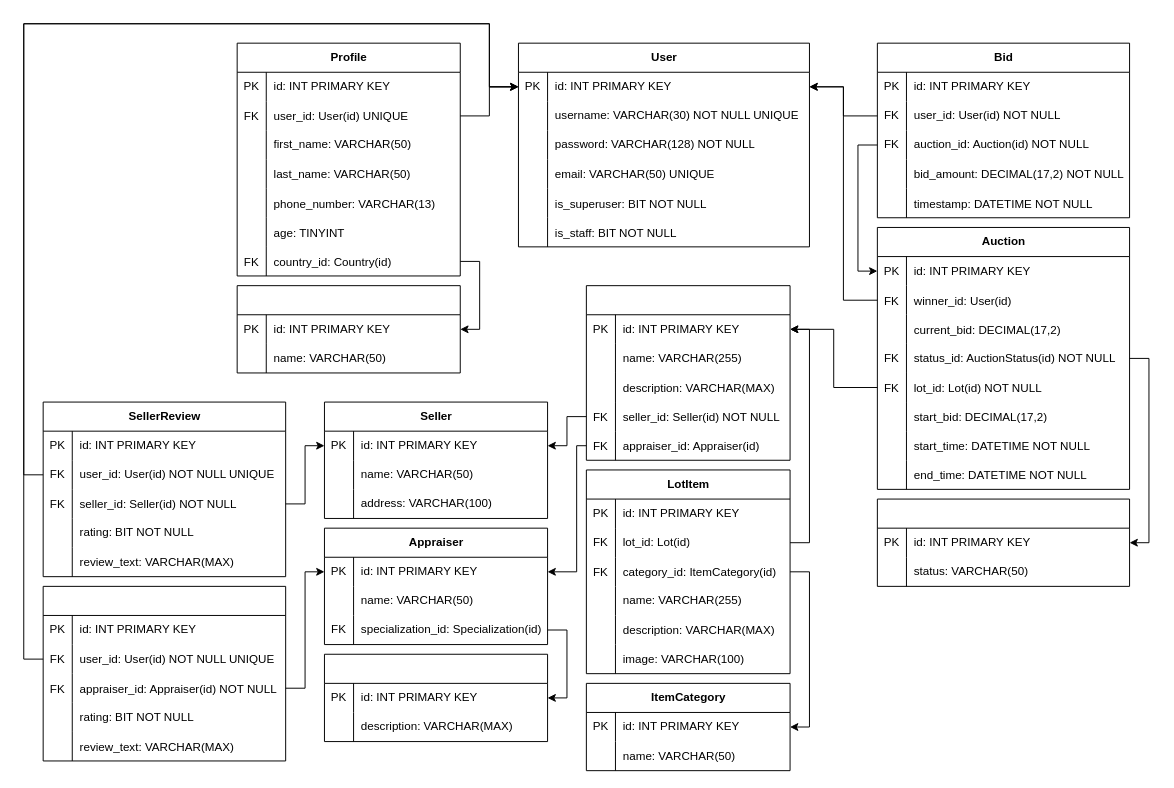
Image size: 1174x788. Some labels were removed from this diagram. Here are the shapes that lost their labels. From the top down, the box of each, then its label:
(236, 285, 460, 373): Country
(585, 285, 790, 460): Lot
(876, 498, 1130, 586): AuctionStatus
(42, 585, 286, 761): ApprasierReview
(323, 653, 548, 742): Specialization
